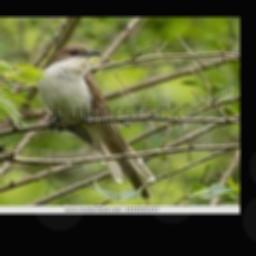Cuckoo: (39, 44, 157, 198)
